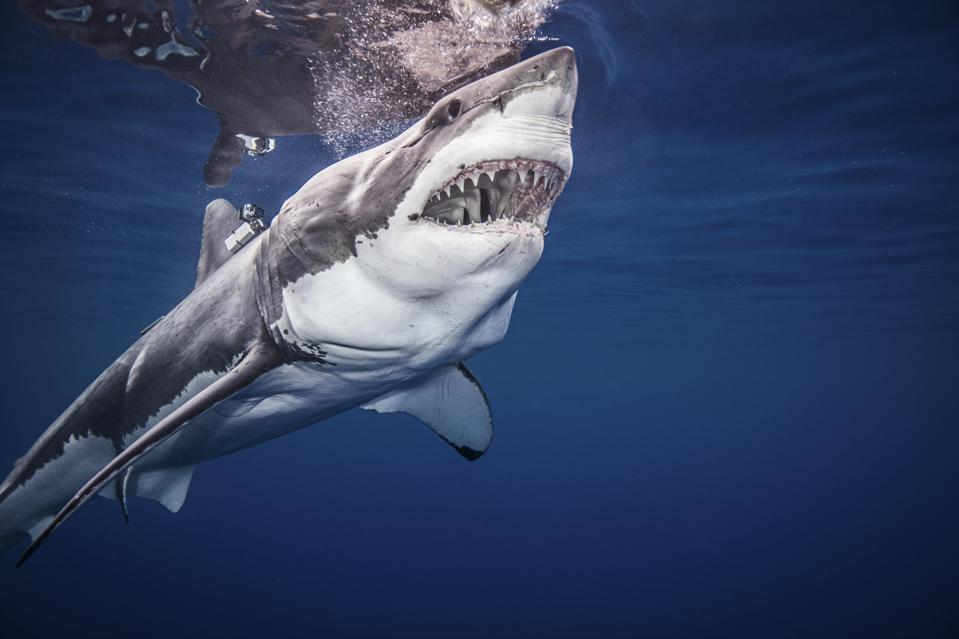shark: (1, 38, 592, 577)
